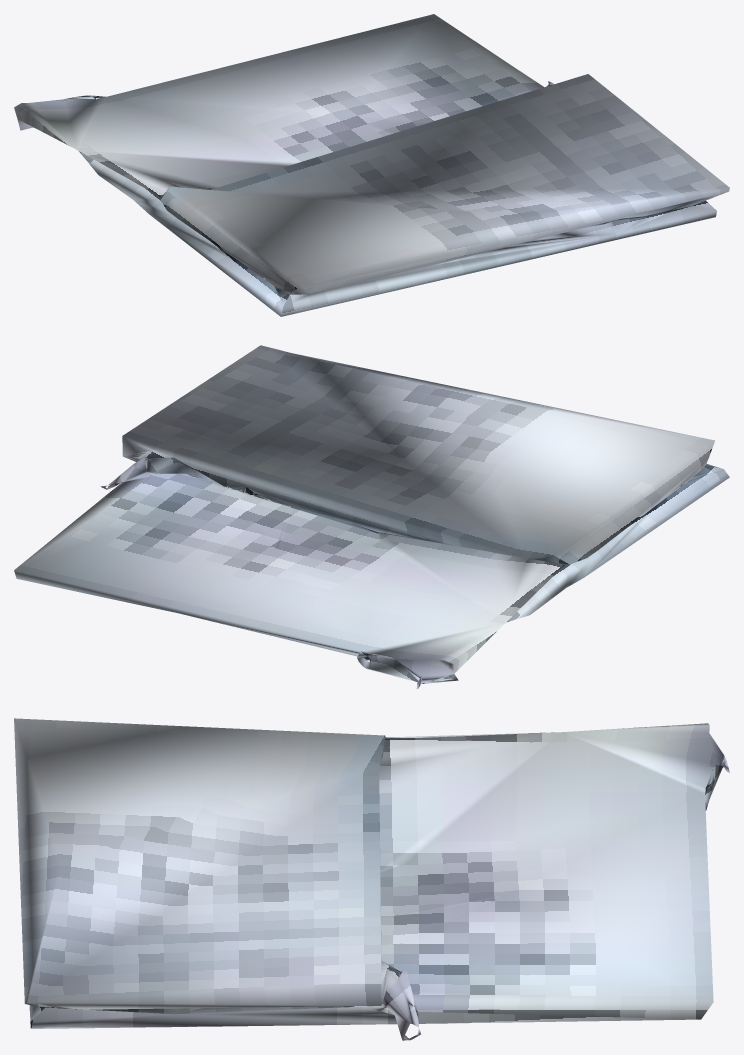
File: Now_Designs_Snack_Bags_Bicycle_2_count-low.glb
The picture shows the model from 3 angles, top to bottom: view 1: azimuth 30°, elevation 25°; view 2: azimuth 150°, elevation 25°; view 3: azimuth 270°, elevation 25°; orthographic projection. The views are drawn at different scales.
Visible parts, largest first — view 1: Now_Designs_Snack_Bags_Bicycle_2_count; view 2: Now_Designs_Snack_Bags_Bicycle_2_count; view 3: Now_Designs_Snack_Bags_Bicycle_2_count.
Part boxes in pixels (x1,y1,x2,y2): Now_Designs_Snack_Bags_Bicycle_2_count: (14,14,729,316); Now_Designs_Snack_Bags_Bicycle_2_count: (14,345,729,689); Now_Designs_Snack_Bags_Bicycle_2_count: (14,718,729,1040).
Size of the model in its own units: 0.1885 by 0.0177 by 0.2009.
Materials: 1 (1 with a texture image).
